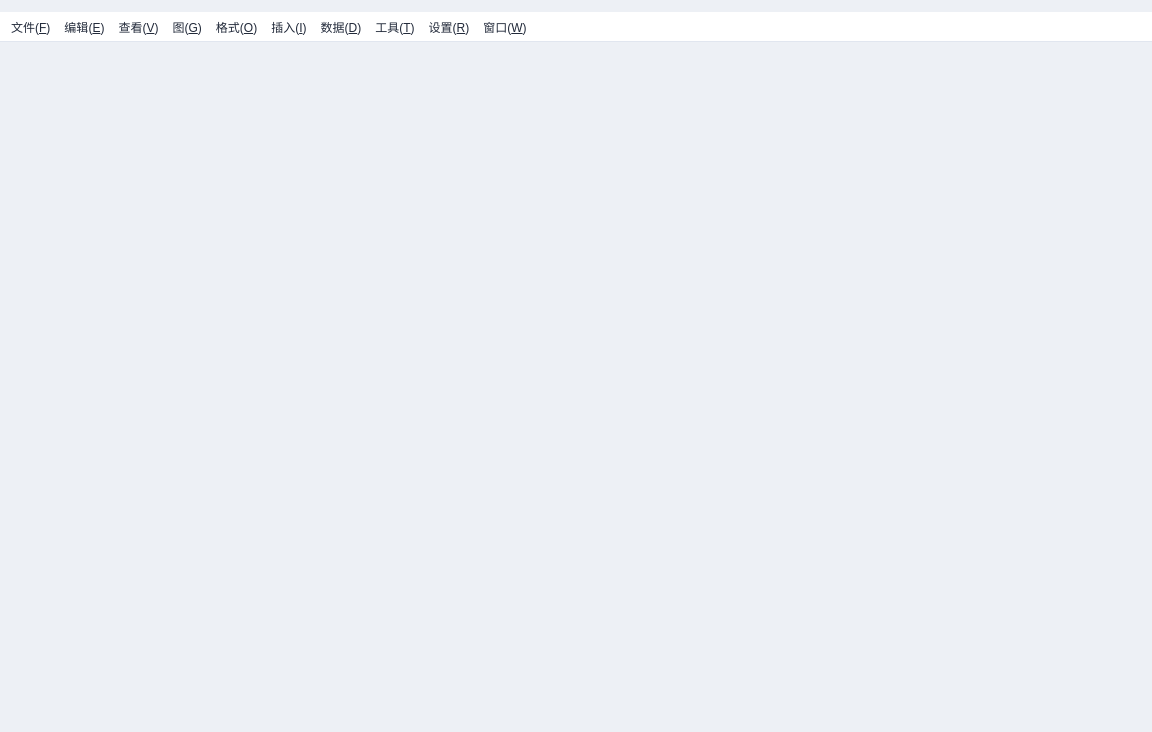
Test case: OriginMenuBar › Alt+O from inside File opens Format without executing Open
Click the button "文件(F)": (31, 26) [4,12,57,40]
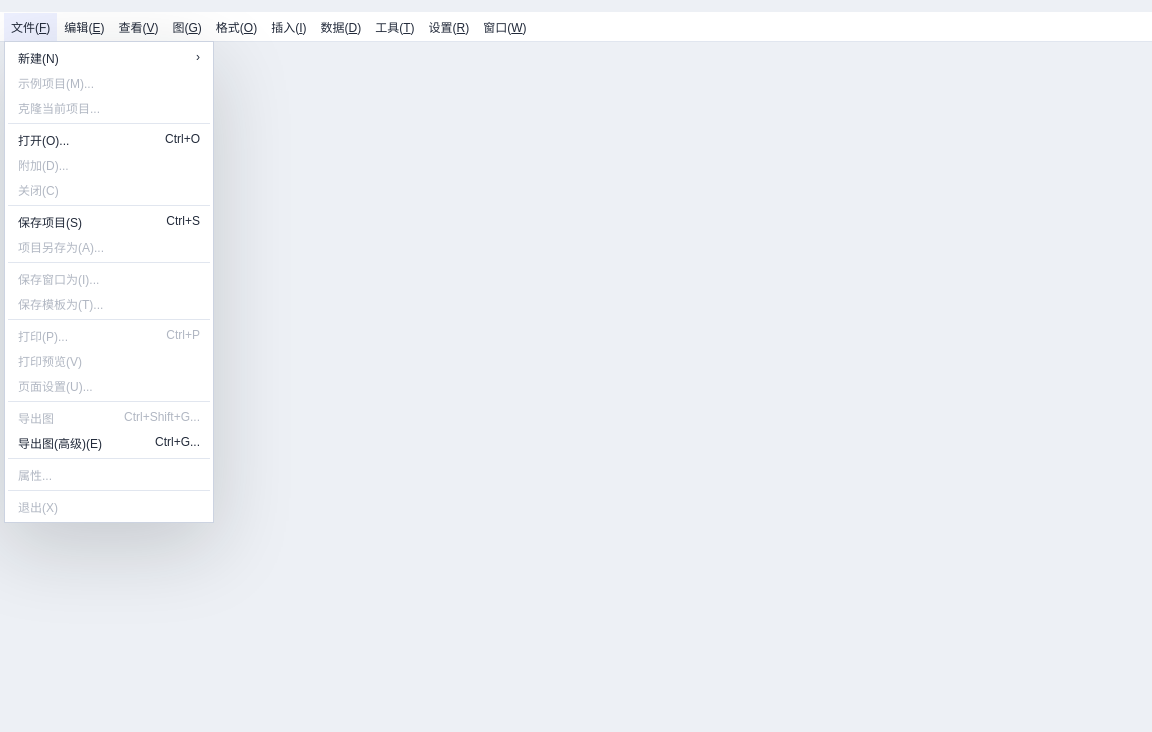
Press o in the menu item "打开(O)... Ctrl+O", box [8,126,210,152]
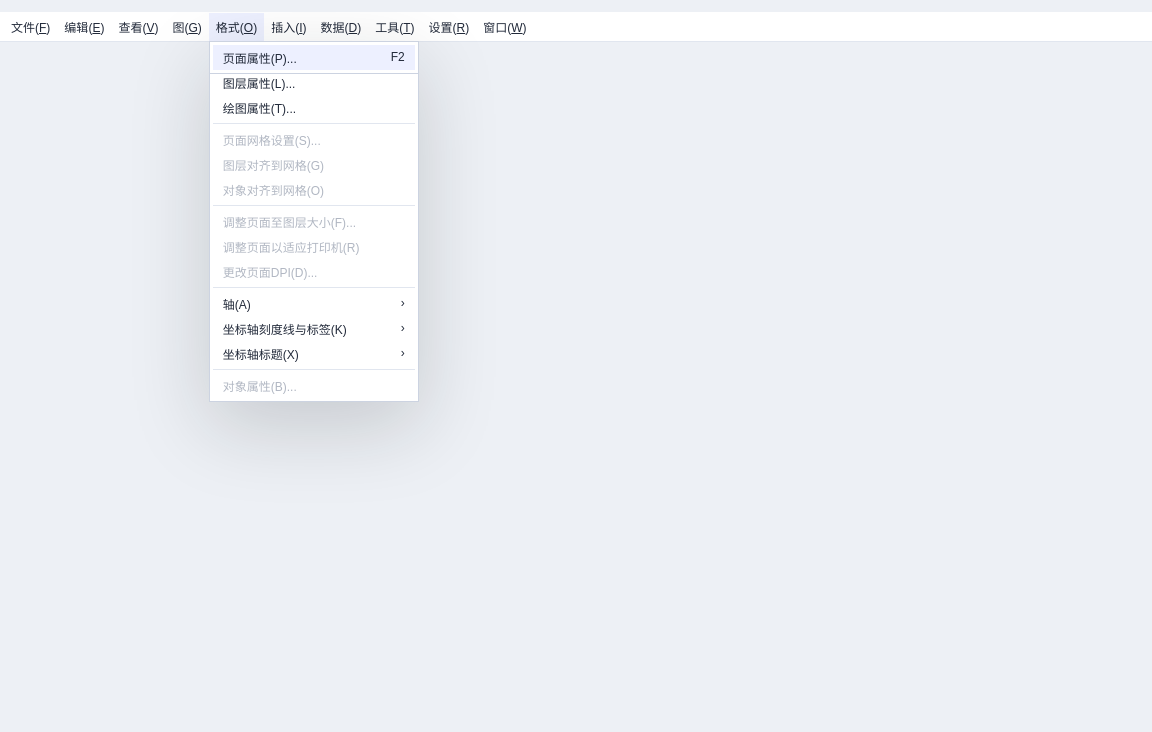
Result: the menu named "格式" is shown at [209,40,419,402]
